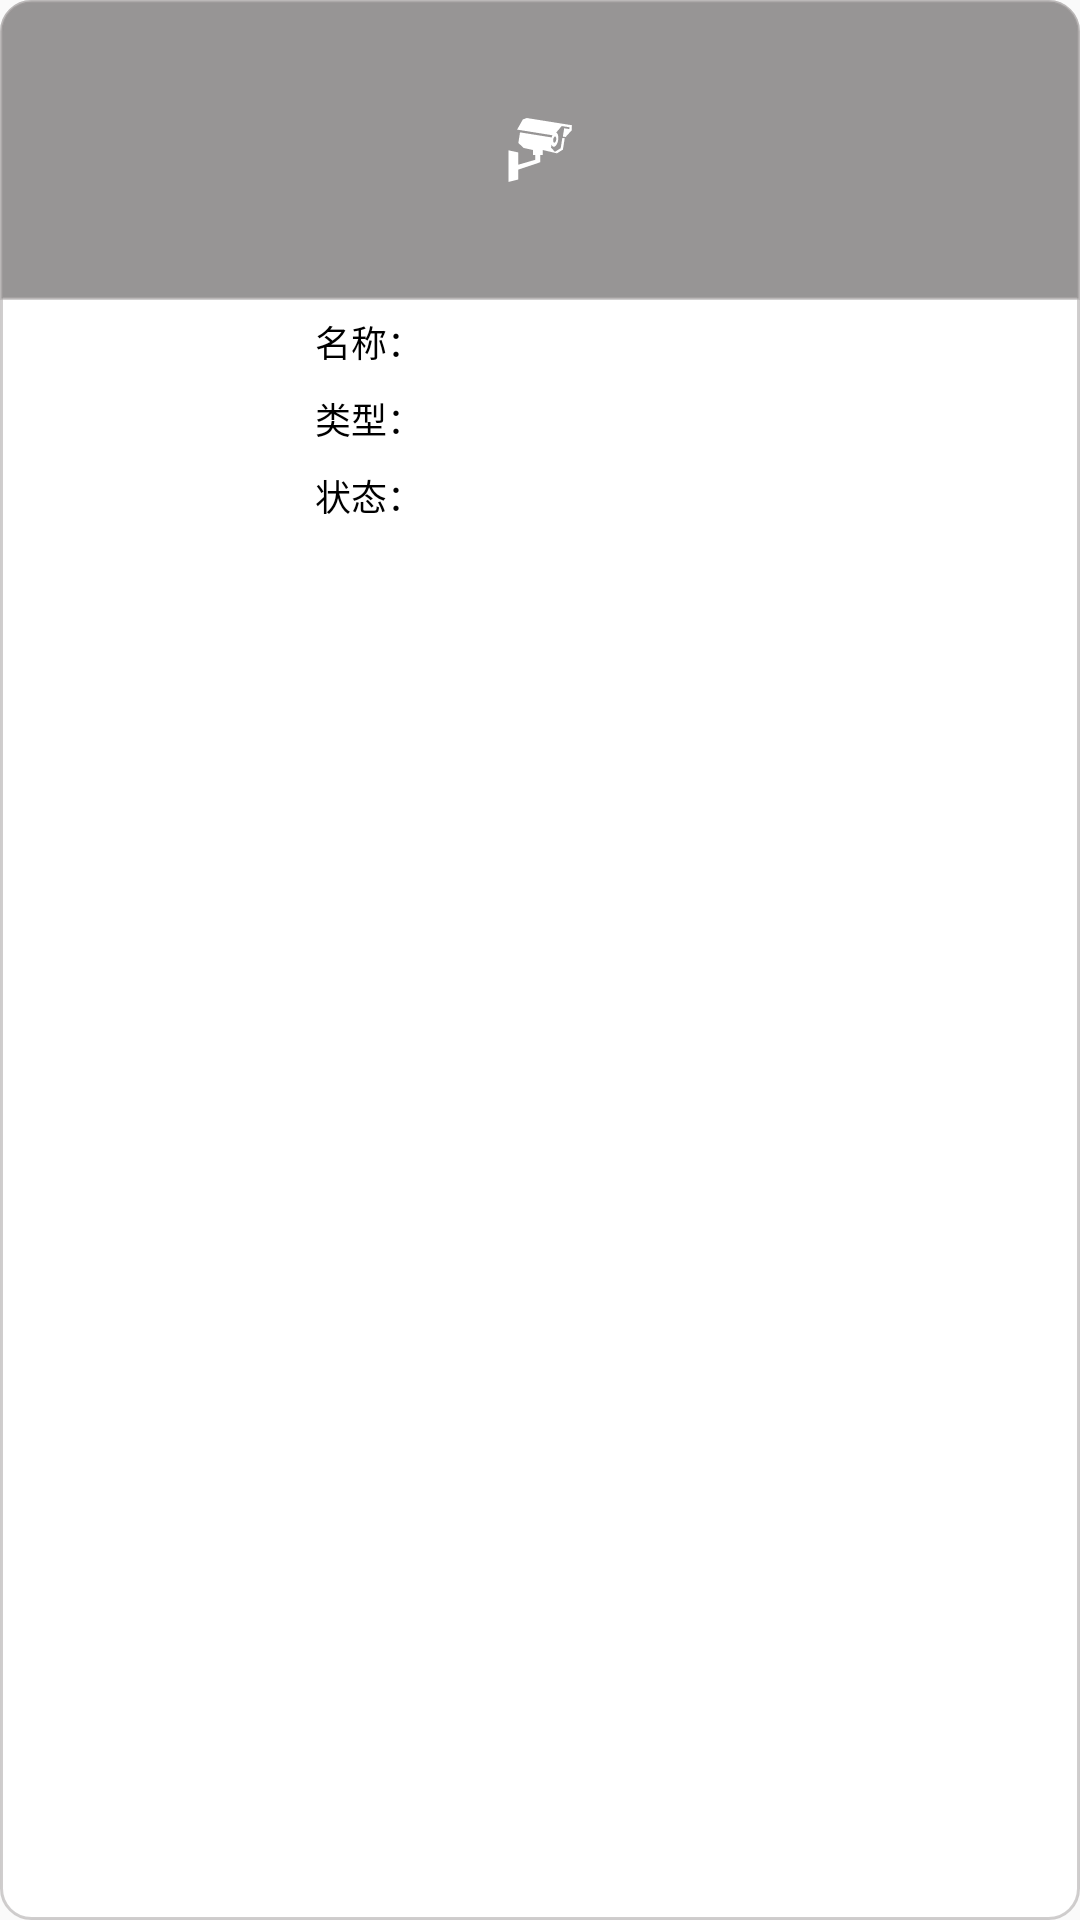

Locate icon controls on the screen. Image size 1080px x 1920px, boxes as (left=x1, top=y1, right=x2, bottom=y2).
camera: (left=508, top=118, right=572, bottom=182)
